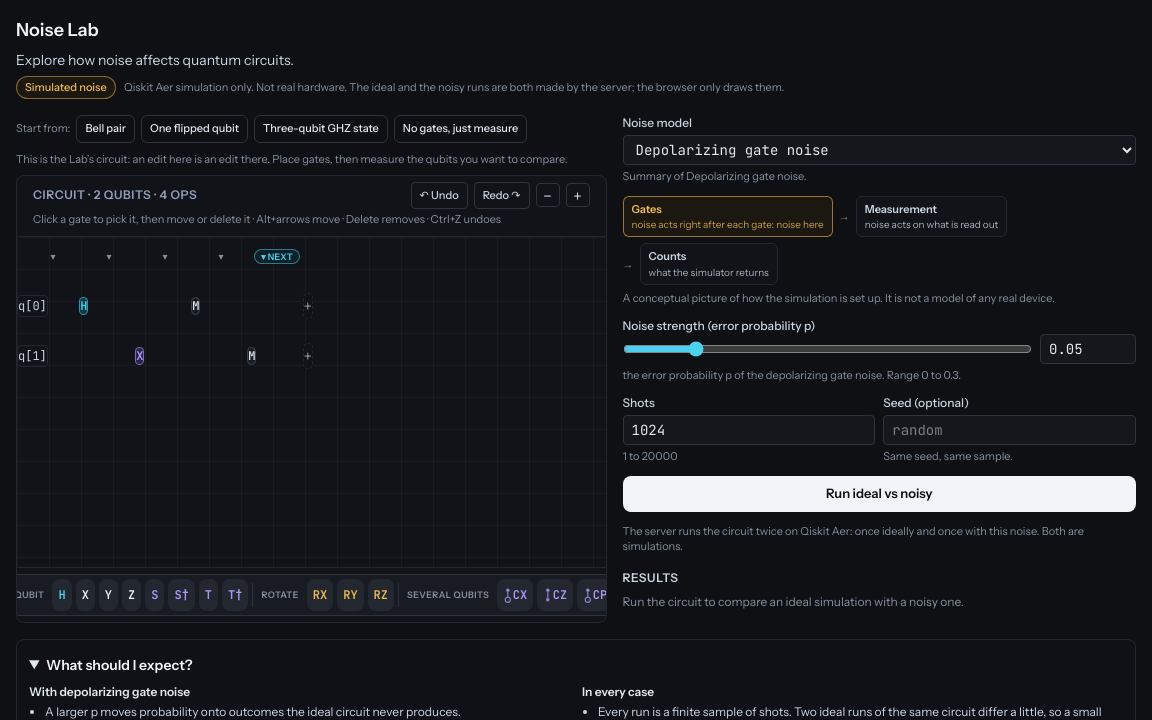
Test: the controls › the slider and the number box show the same value, whichever one moves
The image size is (1152, 720).
Check: the dropdown labelled "Noise model" is shown, box left=622, top=134, right=1136, bottom=164
Set the slider named "Noise strength, slider" to "0.2" at (893, 349), box left=622, top=341, right=1032, bottom=357
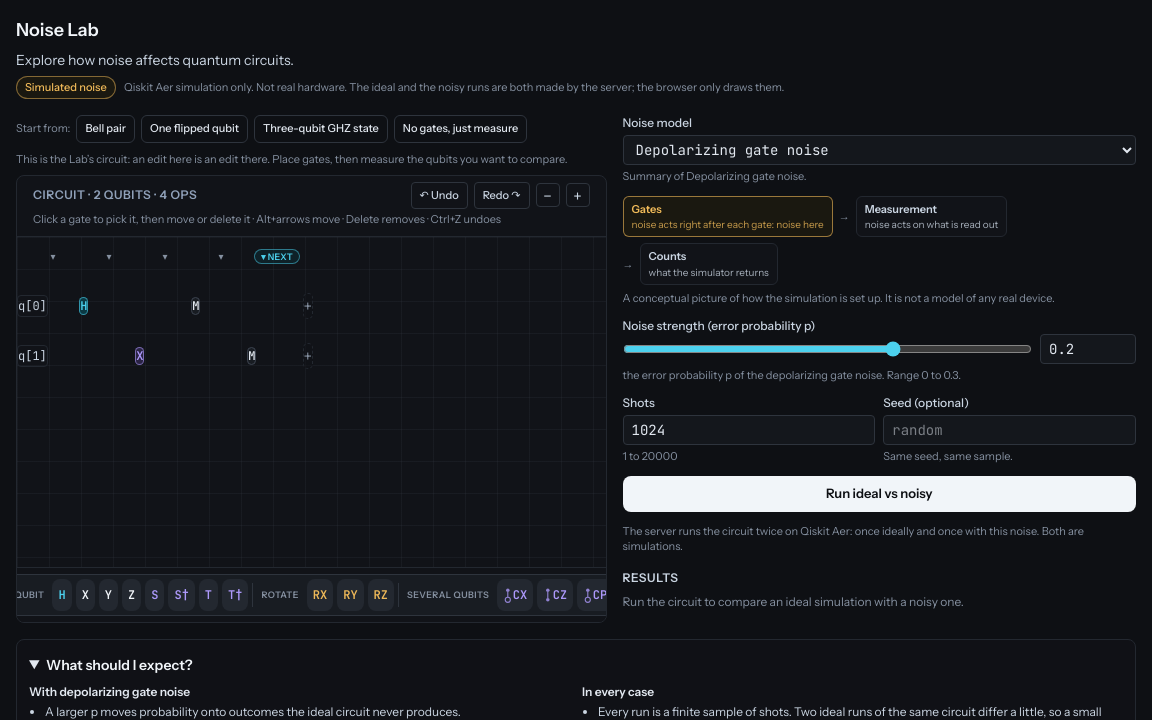
Check: the number field named "Noise strength, value" holds "0.2"
Replace the text in the number field named "Noise strength, value" with "0.12" at (1088, 349), box left=1040, top=334, right=1136, bottom=364
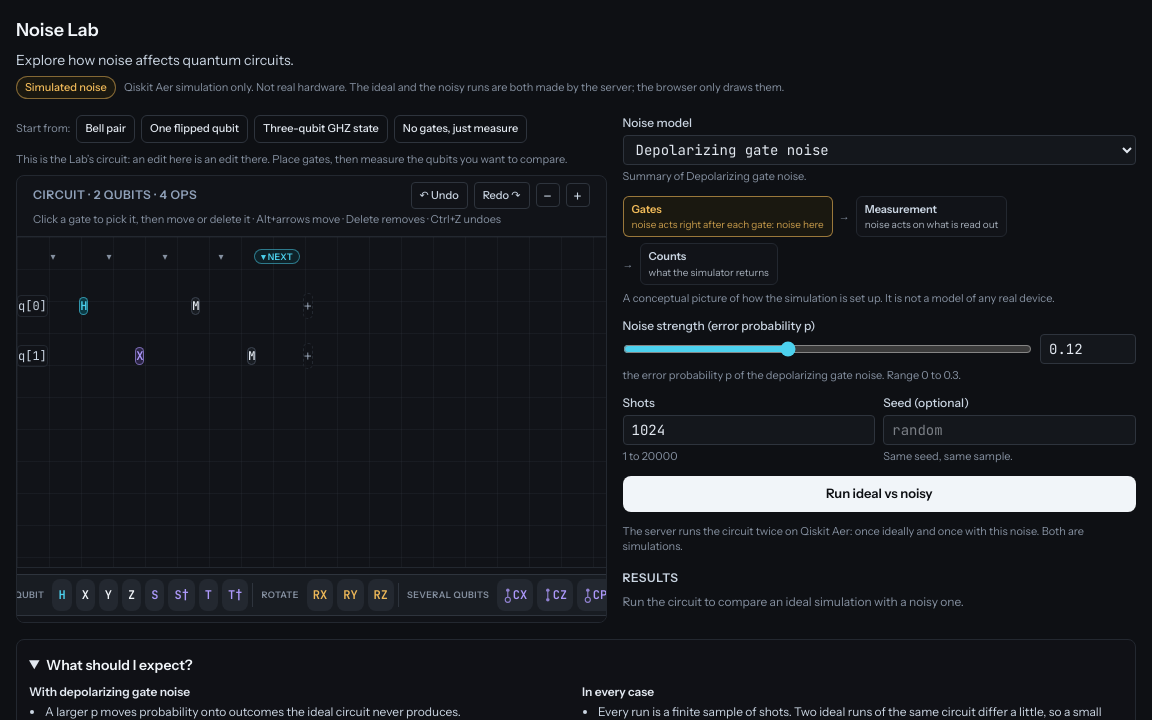
Check: the slider named "Noise strength, slider" holds "0.12", box left=622, top=341, right=1032, bottom=357
